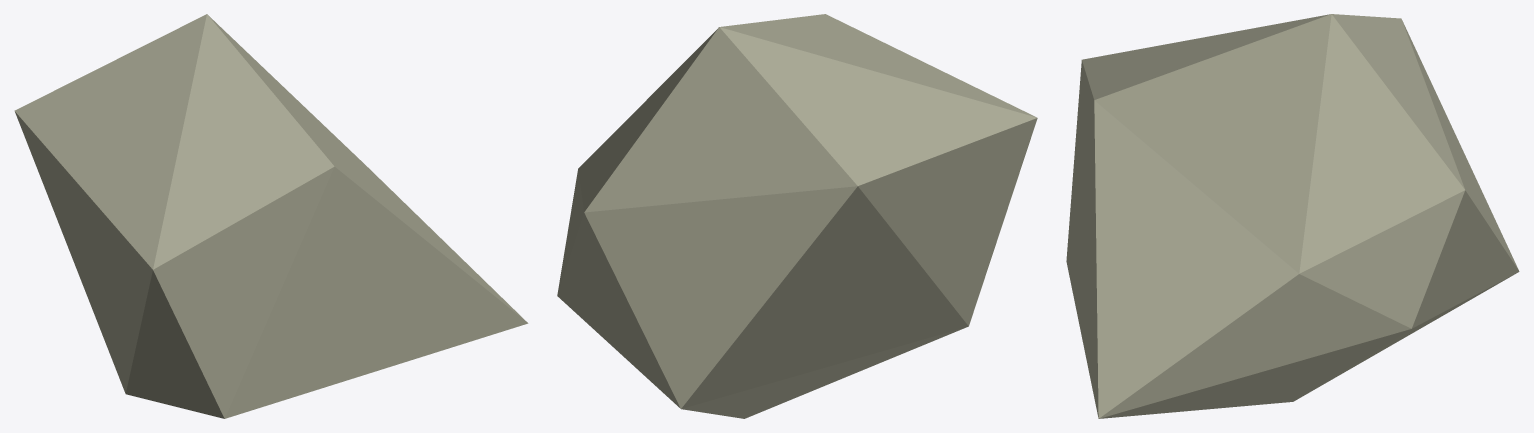
File: asteroid_3.glb
3 renders of one model, left to right at view 1: azimuth 30°, elevation 25°; view 2: azimuth 150°, elevation 25°; view 3: azimuth 270°, elevation 25°, orthographic. The views are drawn at different scales.
Visible parts, largest first — view 1: Asteroid_3; view 2: Asteroid_3; view 3: Asteroid_3.
Boxes of the visible parts, x1,y1,x2,y2 form: Asteroid_3: [14, 14, 528, 418]; Asteroid_3: [557, 14, 1037, 418]; Asteroid_3: [1066, 14, 1519, 418].
Size of the model in its own units: 0.5827 by 0.5366 by 0.5644.
